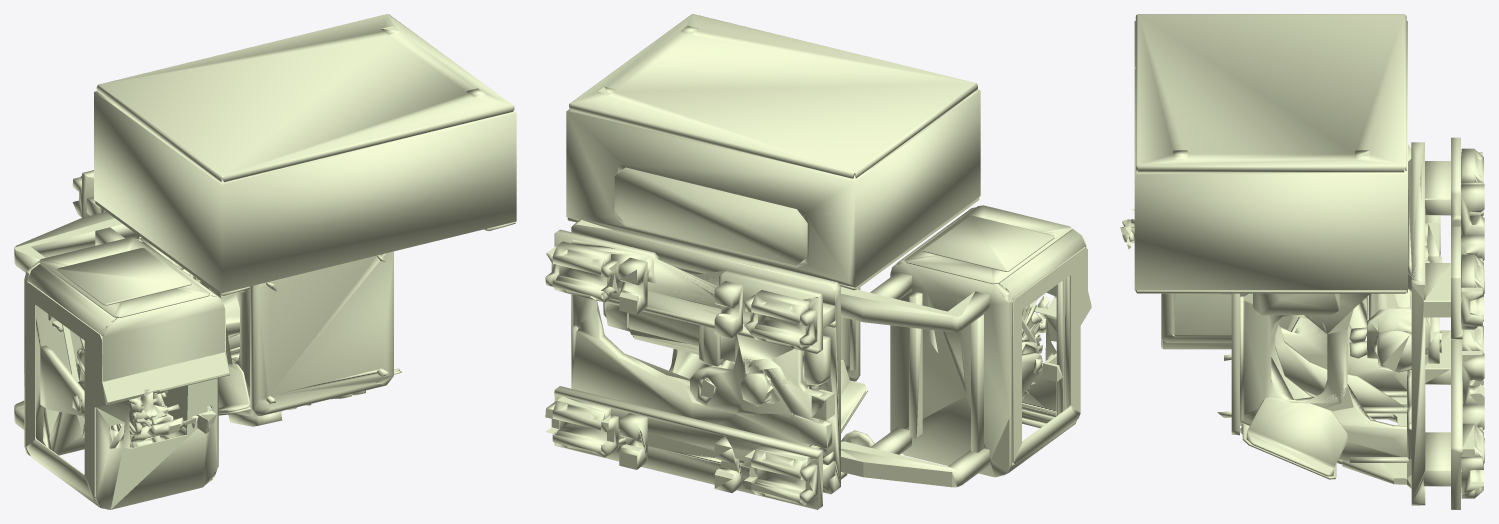
Rendered from slide.dae.
3 renders of one model, left to right at view 1: azimuth 30°, elevation 25°; view 2: azimuth 150°, elevation 25°; view 3: azimuth 270°, elevation 25°, orthographic. The views are drawn at different scales.
Visible parts, largest first — view 1: Node_0x7fd4b7914b00; view 2: Node_0x7fd4b7914b00; view 3: Node_0x7fd4b7914b00.
Part boxes in pixels (<box>): Node_0x7fd4b7914b00: <box>14,14,516,509</box>; Node_0x7fd4b7914b00: <box>545,14,1091,509</box>; Node_0x7fd4b7914b00: <box>1120,14,1484,509</box>.
Size of the model in its own units: 1.11 by 0.8009 by 0.8736.
